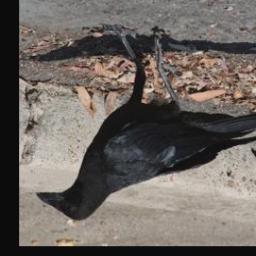Crow: (34, 27, 256, 226)
